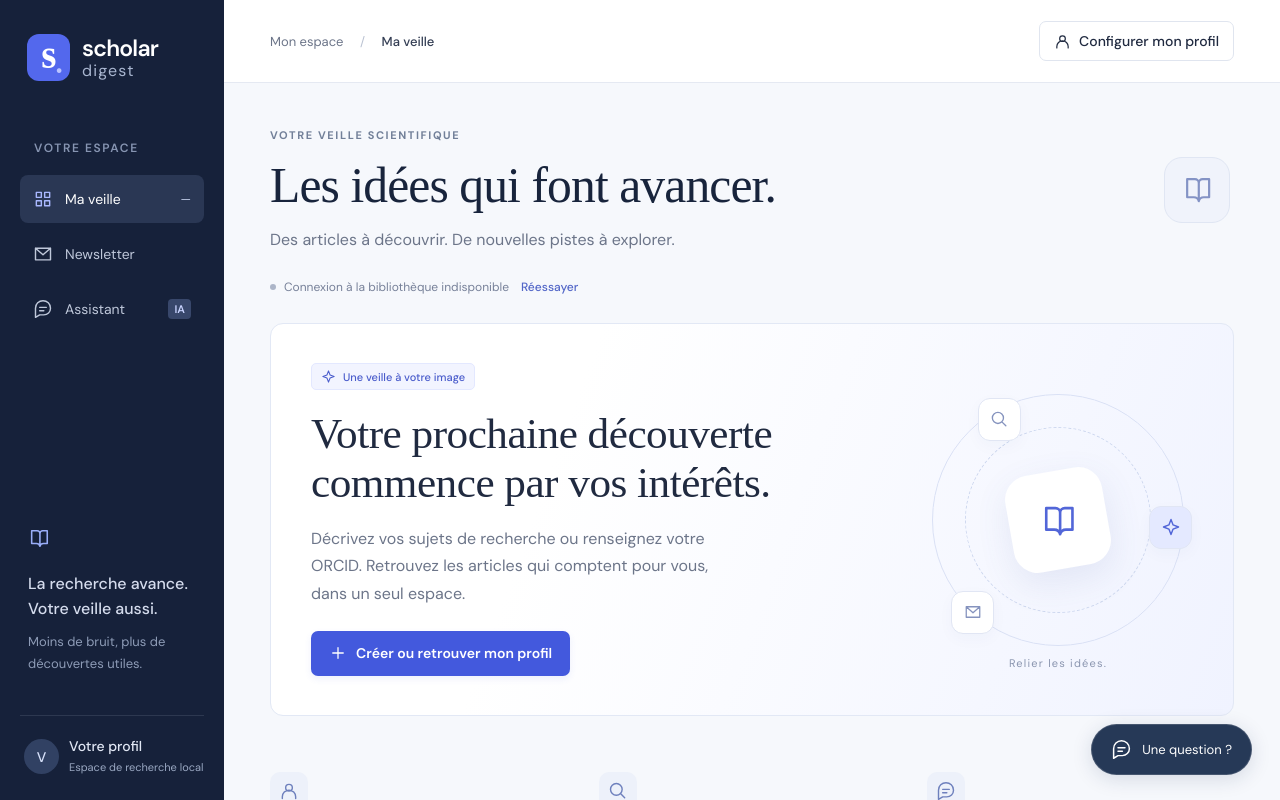
Scenario: research workspace › shows a failed profile request without pretending it succeeded
Step 1. Click the button "Configurer mon profil" → (1137,41), box [1039, 21, 1234, 61]
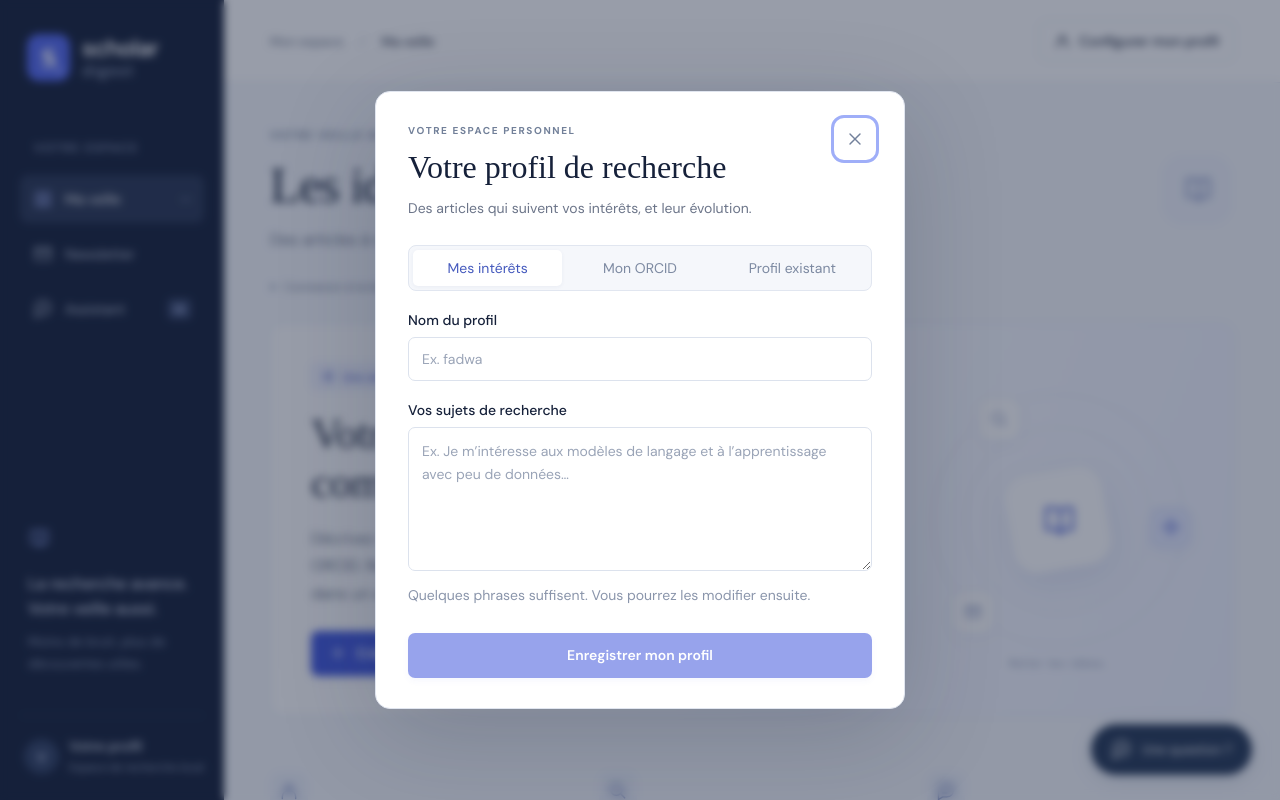
Step 2. Type "alice" into the field labelled "Nom du profil" → (640,358), box [408, 336, 872, 380]
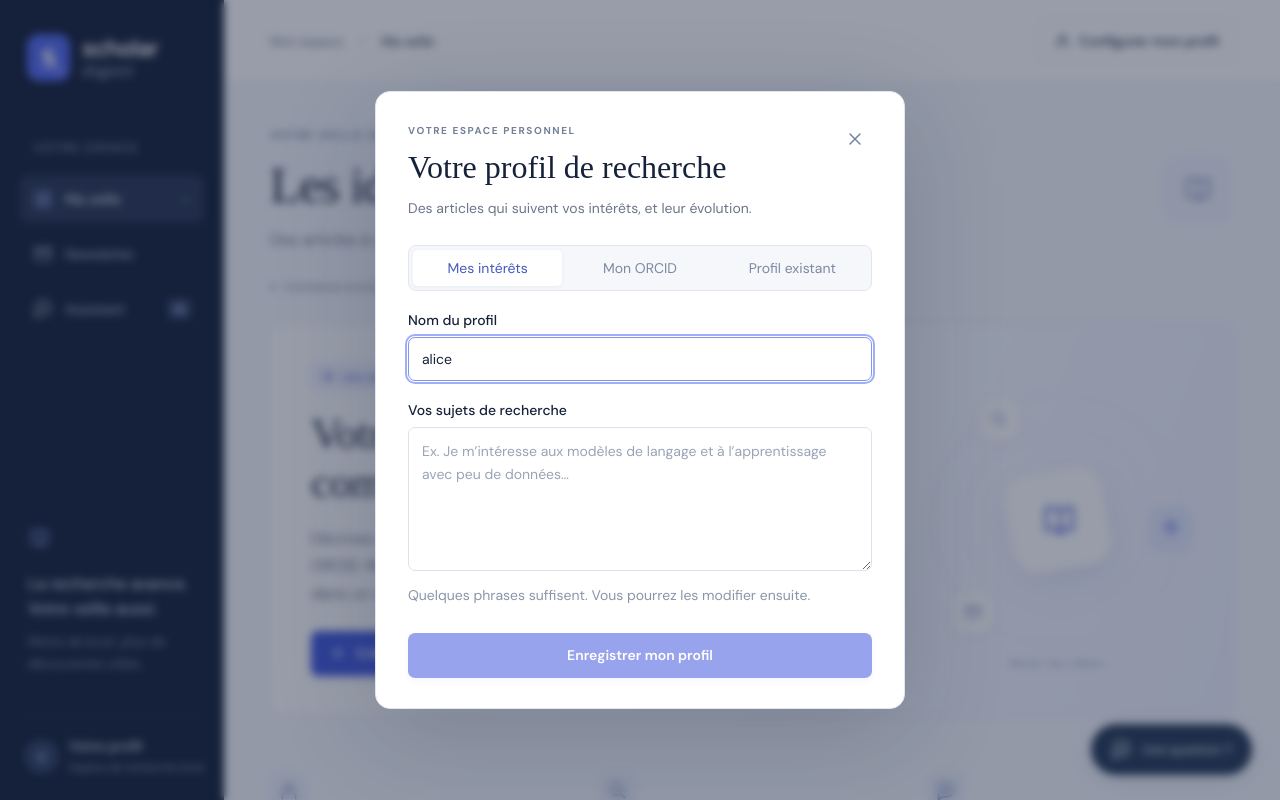
Step 3. Type "NLP" into the text box labelled "Vos sujets de recherche" → (640,499), box [408, 426, 872, 572]
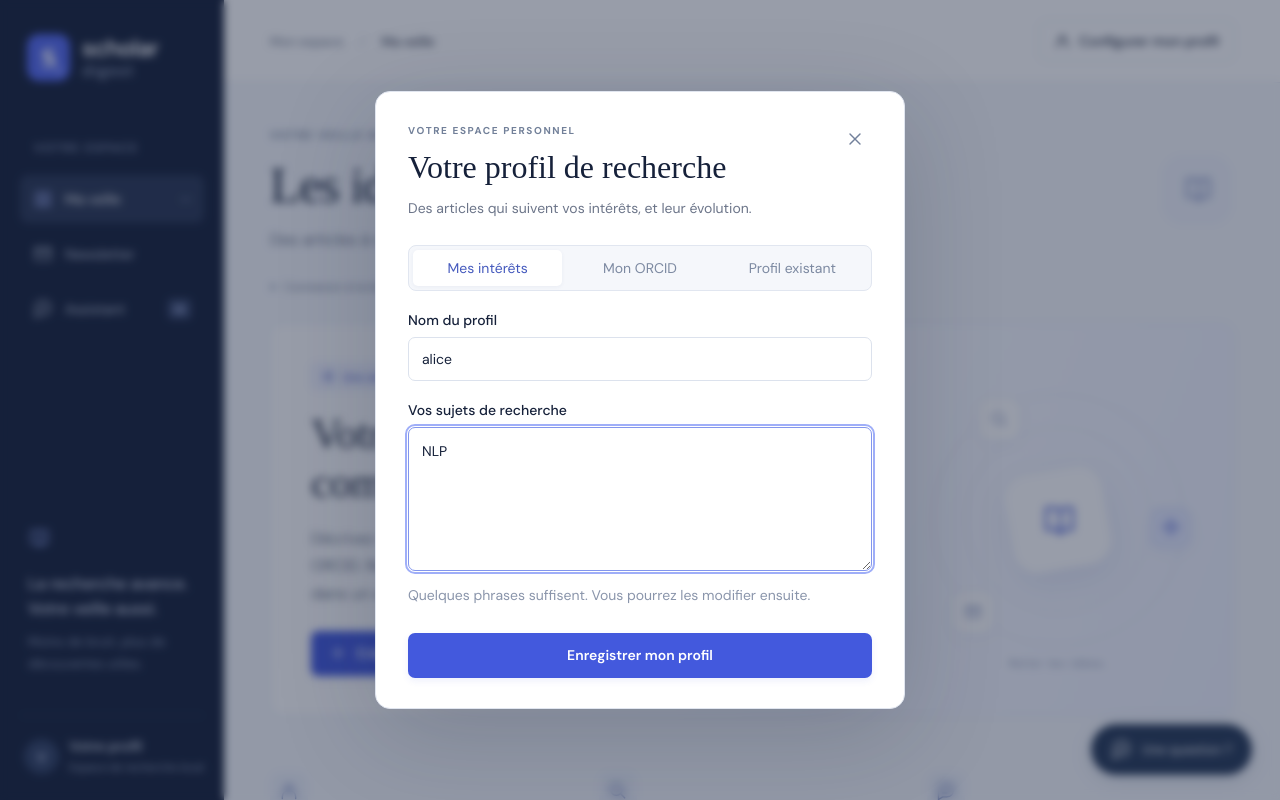
Step 4. Click the button "Enregistrer mon profil" → (640,656), box [408, 633, 872, 678]
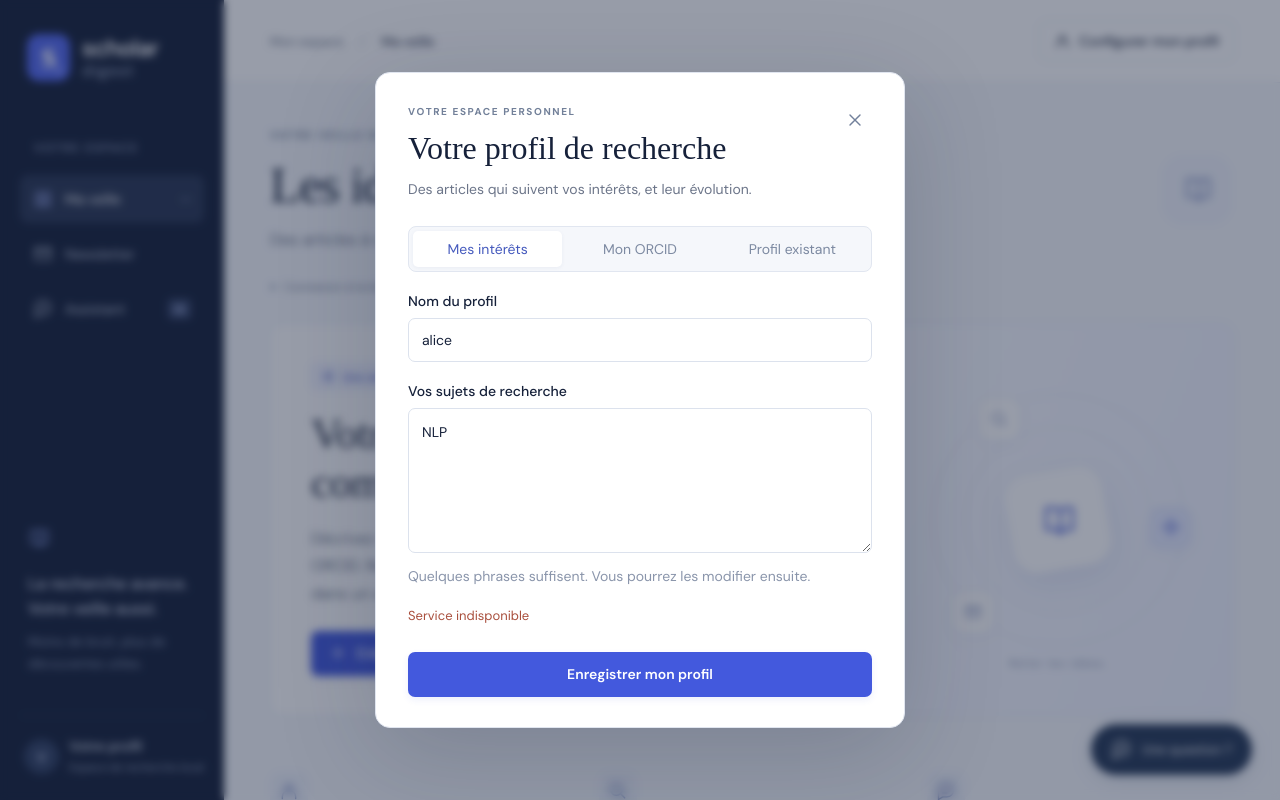
Now the message reads "Service indisponible", box [408, 607, 529, 624]
